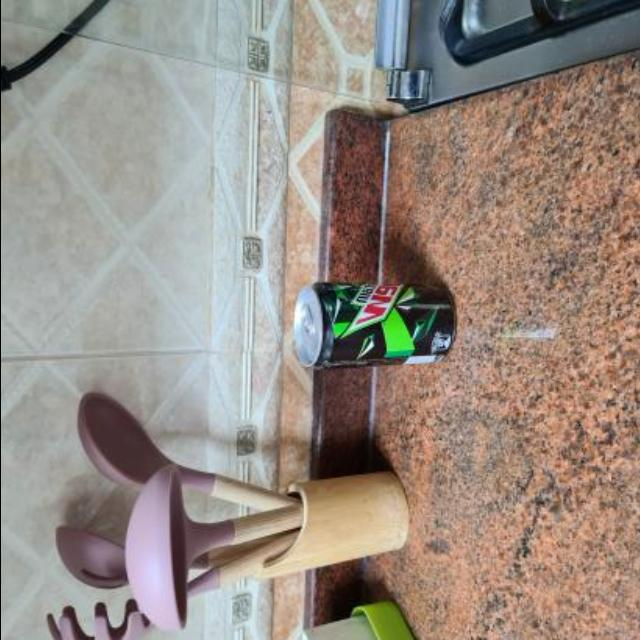metal: (292, 283, 450, 365)
